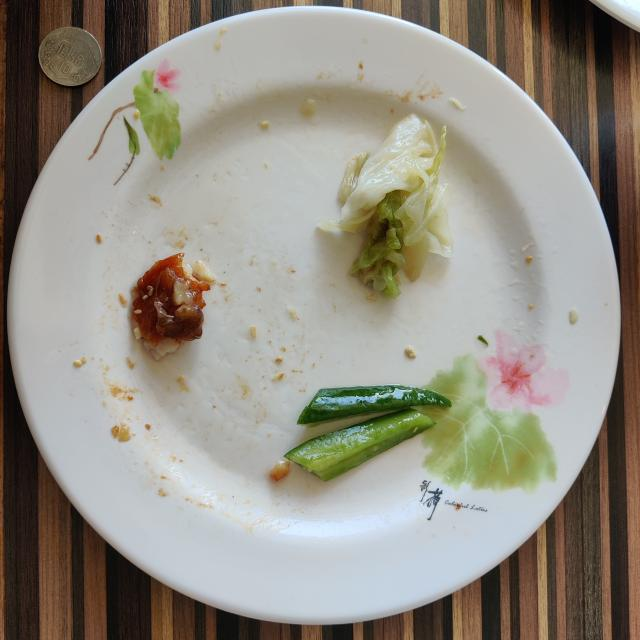Kabayaki sea bream fillet: (131, 254, 210, 359)
cabbage: (318, 114, 454, 298)
coin: (39, 26, 101, 86)
cucumber: (285, 385, 451, 481)
